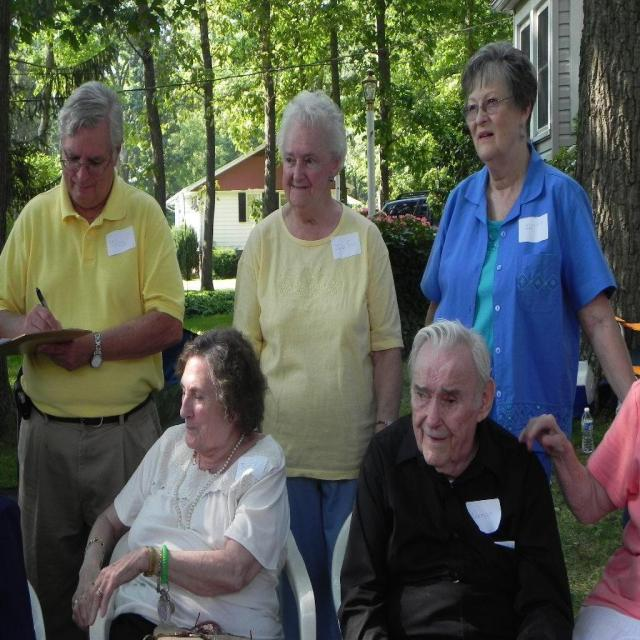body: (0, 77, 191, 639), (223, 79, 414, 639), (419, 38, 638, 488), (329, 314, 586, 639), (70, 323, 292, 640), (515, 372, 640, 639), (0, 466, 41, 640)
